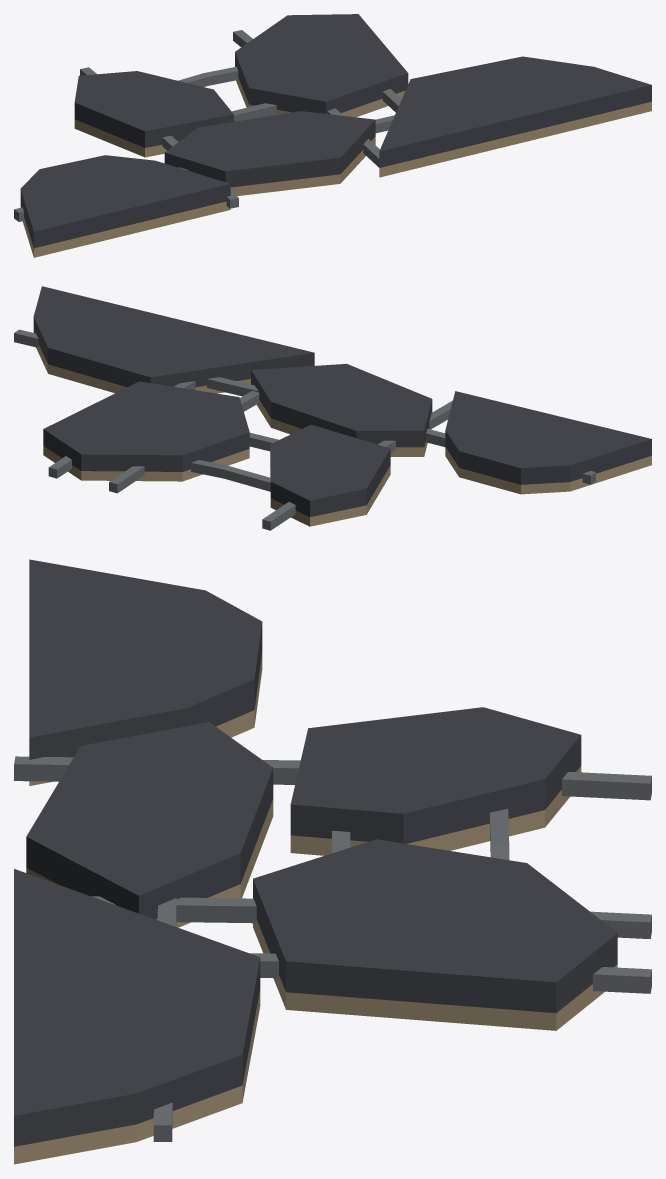
File: DarkStoneFloorMediumBrokenRoad2.fbx
The picture shows the model from 3 angles, top to bottom: view 1: azimuth 30°, elevation 25°; view 2: azimuth 150°, elevation 25°; view 3: azimuth 270°, elevation 25°; orthographic projection. The views are drawn at different scales.
Visible parts, largest first — view 1: DarkStoneFloorMediumBrokenRoad2; view 2: DarkStoneFloorMediumBrokenRoad2; view 3: DarkStoneFloorMediumBrokenRoad2.
Boxes of the visible parts, x1,y1,x2,y2 form: DarkStoneFloorMediumBrokenRoad2: (14,14,651,257); DarkStoneFloorMediumBrokenRoad2: (14,286,651,530); DarkStoneFloorMediumBrokenRoad2: (14,559,651,1164).
Bounding box in the file's own units: 1798 × 73.2 × 871.
